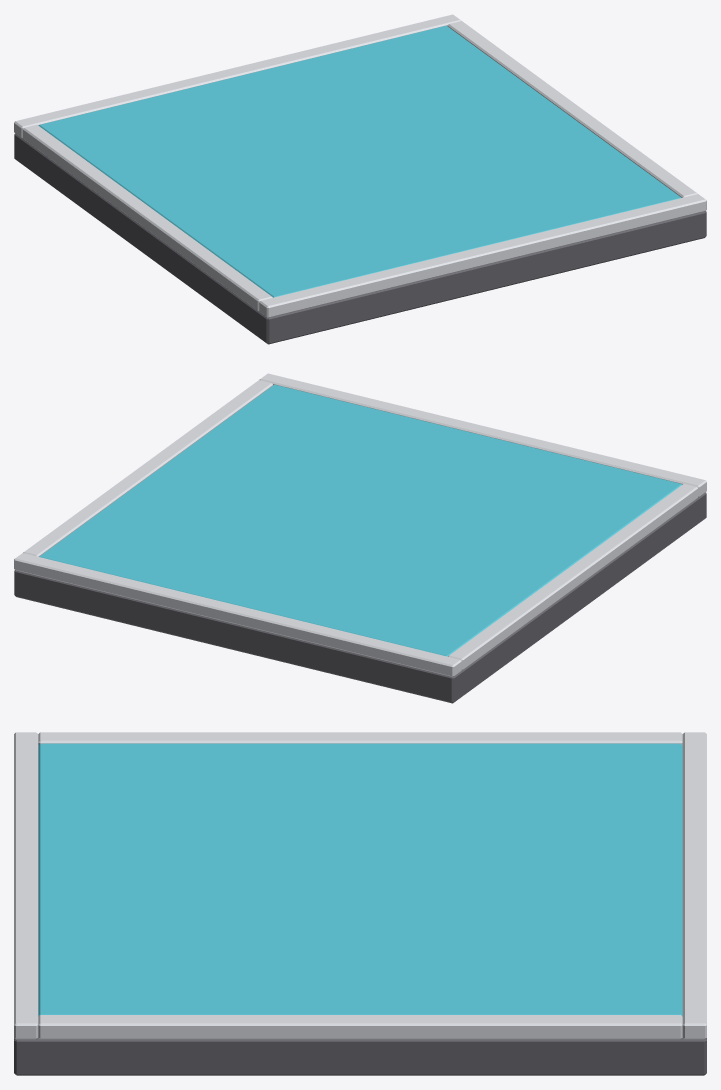
The model's file is nightclub-and-dj-booth-led-floor-tile-module-cyan-83ec37b2__34112.glb.
3 views of the same model, one above another, from view 1: azimuth 30°, elevation 25°; view 2: azimuth 150°, elevation 25°; view 3: azimuth 270°, elevation 25° (orthographic). The views are drawn at different scales.
Visible parts, largest first — view 1: led-floor-tile-module-cyan; view 2: led-floor-tile-module-cyan; view 3: led-floor-tile-module-cyan.
Boxes of the visible parts, left/top/right/bottom form: led-floor-tile-module-cyan: left=14, top=14, right=706, bottom=344; led-floor-tile-module-cyan: left=14, top=373, right=706, bottom=703; led-floor-tile-module-cyan: left=14, top=732, right=706, bottom=1075.
Bounding box in the file's own units: 1 × 0.084 × 1.
